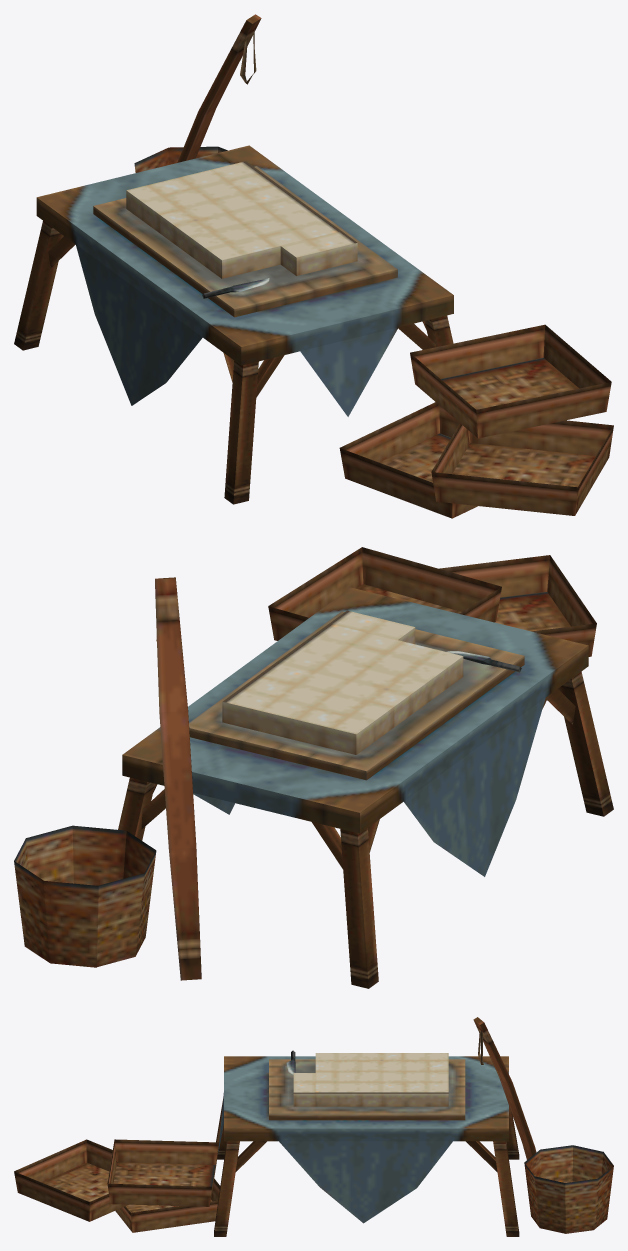
Rendered from xsz_xiaotan_2.FBX.
3 renders of one model, top to bottom at view 1: azimuth 30°, elevation 25°; view 2: azimuth 150°, elevation 25°; view 3: azimuth 270°, elevation 25°, orthographic. The views are drawn at different scales.
Parts seen in each view (by area): view 1: xsz_xiaotan_2; view 2: xsz_xiaotan_2; view 3: xsz_xiaotan_2.
Boxes of the visible parts, x1=… form: xsz_xiaotan_2: x1=14, y1=14, x2=613, y2=518; xsz_xiaotan_2: x1=14, y1=547, x2=613, y2=988; xsz_xiaotan_2: x1=14, y1=1017, x2=613, y2=1236.
Bounding box in the file's own units: 198 × 189 × 477.
